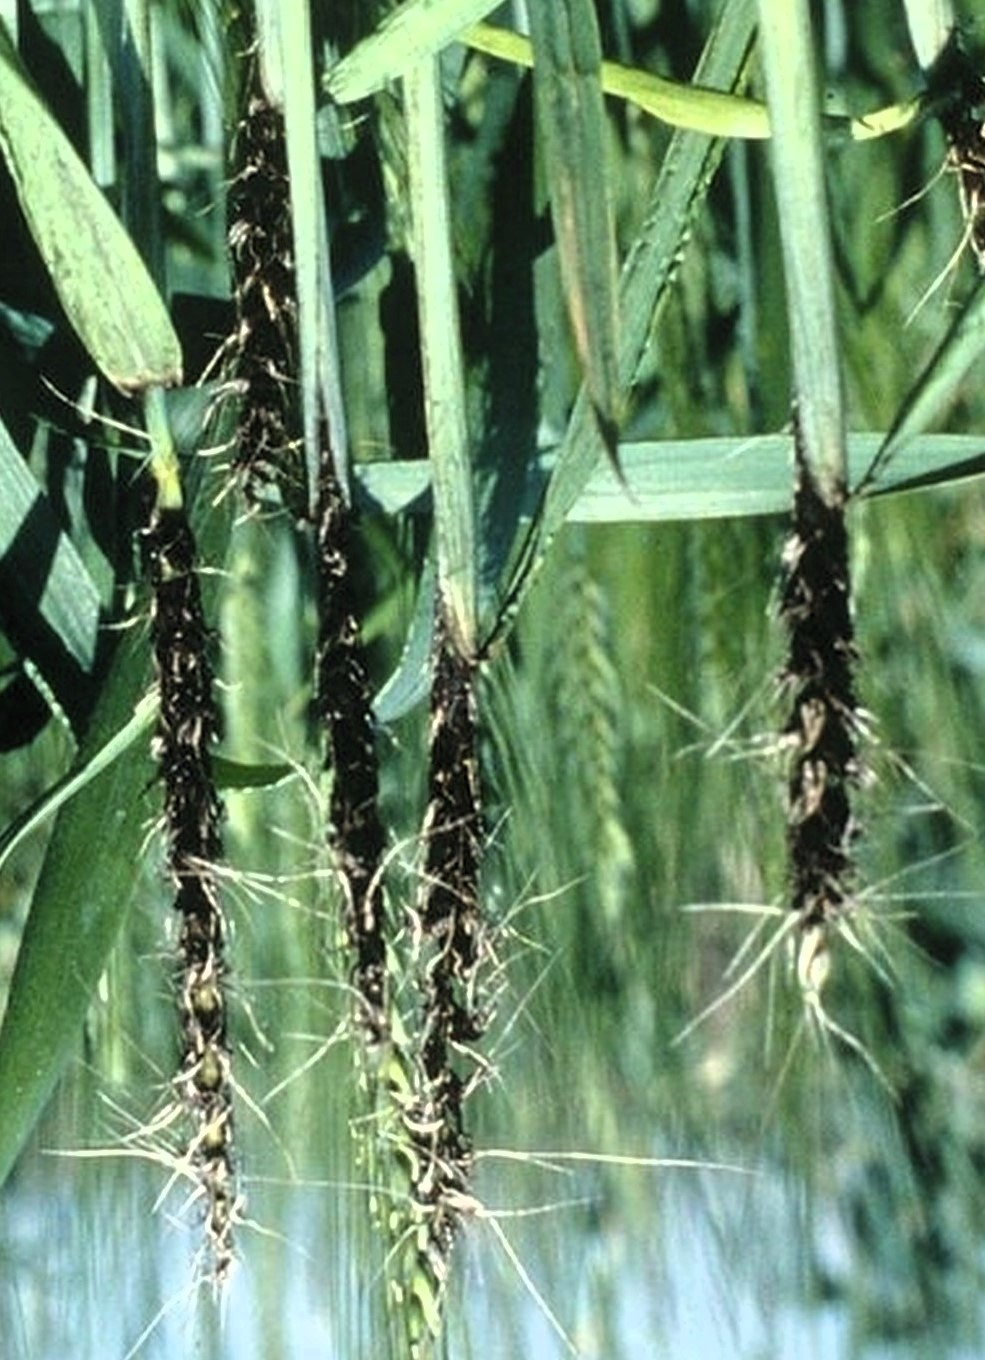Wheat Loose Smut: (115, 724, 553, 1255)
